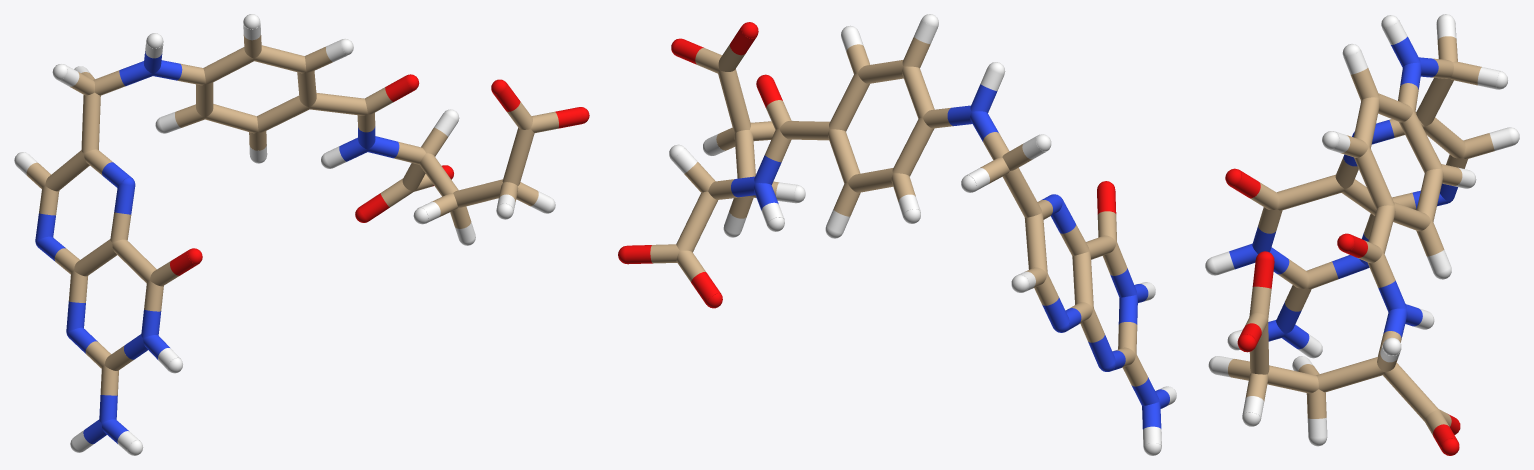
File: hydrogrenFol.dae
3 views of the same model, side by side, from view 1: azimuth 30°, elevation 25°; view 2: azimuth 150°, elevation 25°; view 3: azimuth 270°, elevation 25° (orthographic). The views are drawn at different scales.
Parts seen in each view (by area): view 1: subnode_68, subnode_93, subnode_79, subnode_78, subnode_83, subnode_81, subnode_80, subnode_61, subnode_92, subnode_67, subnode_90, subnode_64 (+1 smaller); view 2: subnode_93, subnode_91, subnode_82, subnode_77, subnode_67, subnode_64, subnode_78, subnode_68, subnode_81, subnode_92, subnode_79, subnode_80 (+1 smaller); view 3: subnode_61, subnode_90, subnode_91, subnode_82, subnode_77, subnode_92, subnode_68, subnode_83, subnode_80, subnode_67, subnode_79, subnode_78 (+47 smaller).
Boxes of the visible parts, <box> form: subnode_68: <box>81,92,100,153</box>; subnode_93: <box>502,127,534,185</box>; subnode_79: <box>309,92,367,115</box>; subnode_78: <box>257,95,309,132</box>; subnode_83: <box>205,104,258,133</box>; subnode_81: <box>203,47,254,84</box>; subnode_80: <box>254,45,306,73</box>; subnode_61: <box>112,239,156,282</box>; subnode_92: <box>453,179,502,207</box>; subnode_67: <box>45,150,89,191</box>; subnode_90: <box>419,153,458,196</box>; subnode_64: <box>74,239,116,276</box>; subnode_93: <box>718,69,750,132</box>; subnode_91: <box>676,191,717,252</box>; subnode_82: <box>892,117,934,176</box>; subnode_77: <box>829,73,869,131</box>; subnode_67: <box>1024,213,1047,273</box>; subnode_64: <box>1072,251,1093,308</box>; subnode_78: <box>828,129,860,183</box>; subnode_68: <box>1002,168,1042,217</box>; subnode_81: <box>902,66,934,118</box>; subnode_92: <box>734,130,755,178</box>; subnode_79: <box>779,121,829,140</box>; subnode_80: <box>857,60,903,83</box>; subnode_61: <box>1277,174,1344,210</box>; subnode_90: <box>1316,357,1383,392</box>; subnode_91: <box>1383,362,1439,421</box>; subnode_82: <box>1399,111,1442,172</box>; subnode_77: <box>1354,147,1394,209</box>; subnode_92: <box>1267,365,1318,393</box>; subnode_68: <box>1416,78,1453,126</box>; subnode_83: <box>1416,169,1443,221</box>; subnode_80: <box>1354,97,1379,148</box>; subnode_67: <box>1424,117,1465,158</box>; subnode_79: <box>1368,205,1395,253</box>; subnode_78: <box>1393,202,1431,231</box>.
Size of the model in its own units: 12.93 by 9.59 by 6.59.
